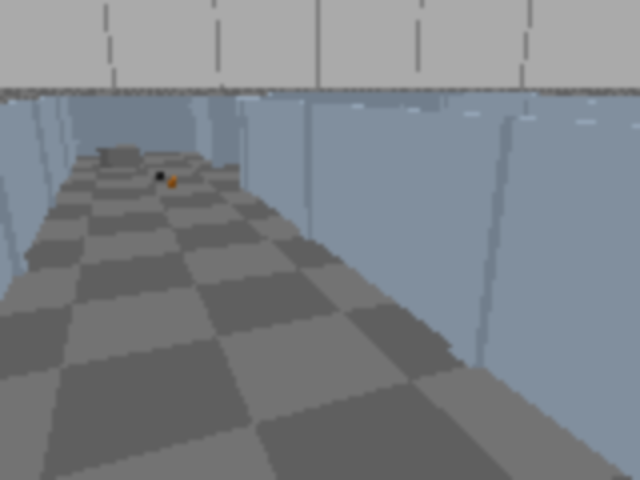obstacle: (97, 145, 143, 170)
